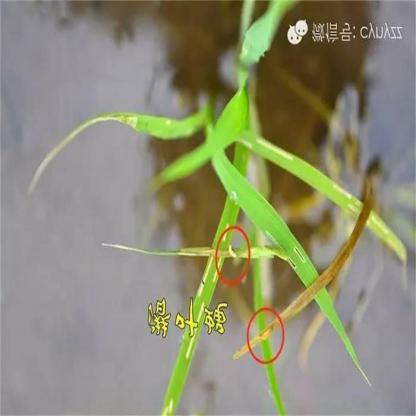whorl-maggot: (228, 240, 236, 261)
